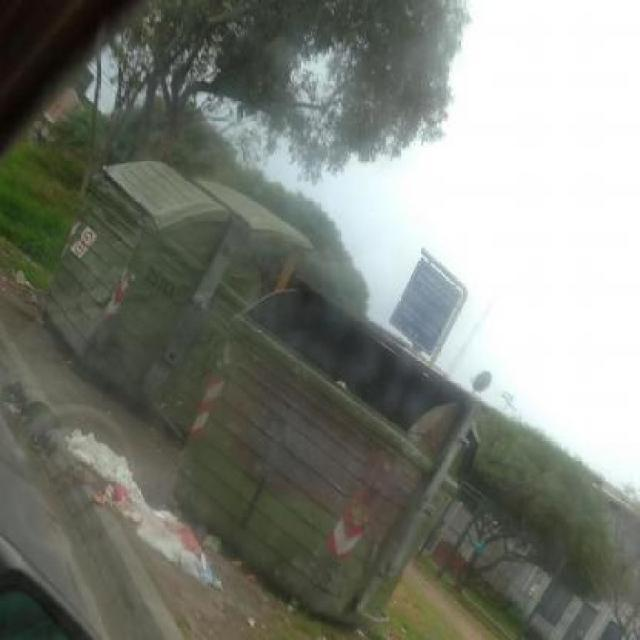garbage: (34, 416, 252, 590)
